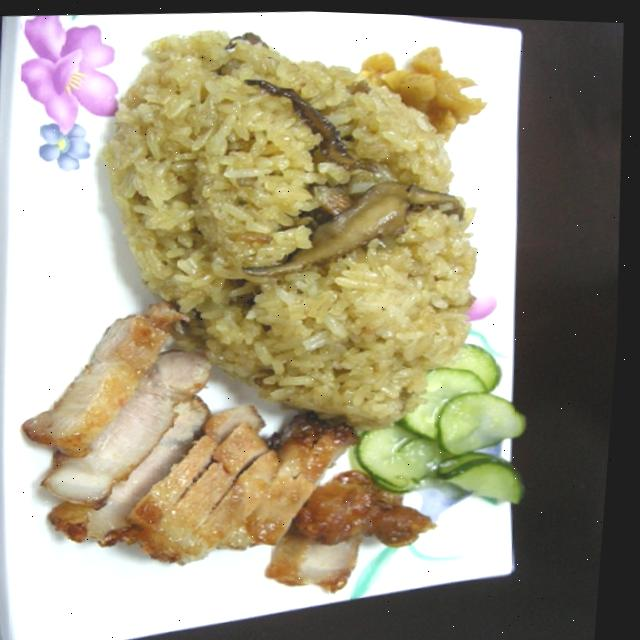米饭主食: (81, 28, 541, 434)
